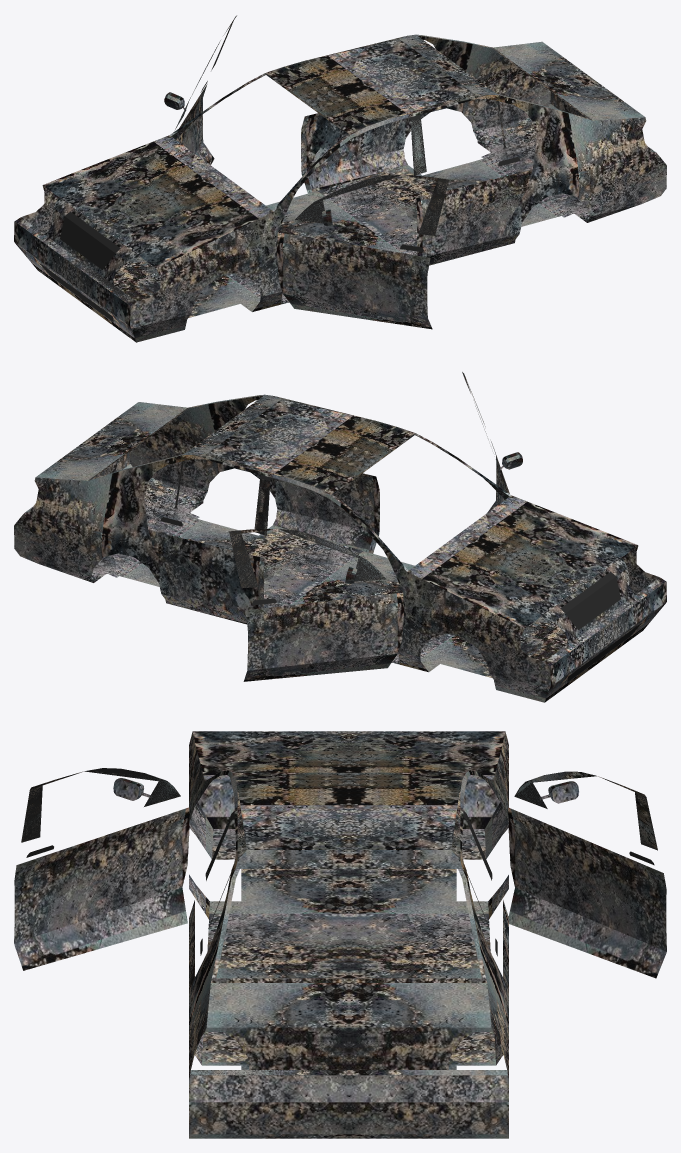
The model's file is 廢棄車.dae.
The picture shows the model from 3 angles, top to bottom: view 1: azimuth 30°, elevation 25°; view 2: azimuth 150°, elevation 25°; view 3: azimuth 270°, elevation 25°; orthographic projection. The views are drawn at different scales.
Parts seen in each view (by area): view 1: CarCore_2 (×6), CarCore_1 (×4), FrontDoor_2 (×3), BackDoor (×2), BackDoorPass; view 2: CarCore_1 (×4), CarCore_2 (×6), FrontDoor_2 (×2), BackDoorPass (×2), BackDoor; view 3: CarCore_1 (×5), CarCore_2 (×5), FrontDoor_2 (×4).
Part boxes in pixels (x1,y1,x2,y2): CarCore_2 (×6): (72,64,666,342); CarCore_1 (×4): (14,34,593,305); FrontDoor_2 (×3): (176,84,449,329); BackDoor (×2): (410,118,532,265); BackDoorPass: (301,113,402,193); CarCore_1 (×4): (14,425,608,702); CarCore_2 (×6): (87,394,666,666); FrontDoor_2 (×2): (229,530,403,681); BackDoorPass (×2): (148,478,270,624); BackDoor: (279,473,379,553); CarCore_1 (×5): (349,731,508,1138); CarCore_2 (×5): (189,732,348,1138); FrontDoor_2 (×4): (14,783,666,978).
Bounding box in the file's own units: 188 × 144 × 52.05.
Materials: 4 (2 with a texture image).
